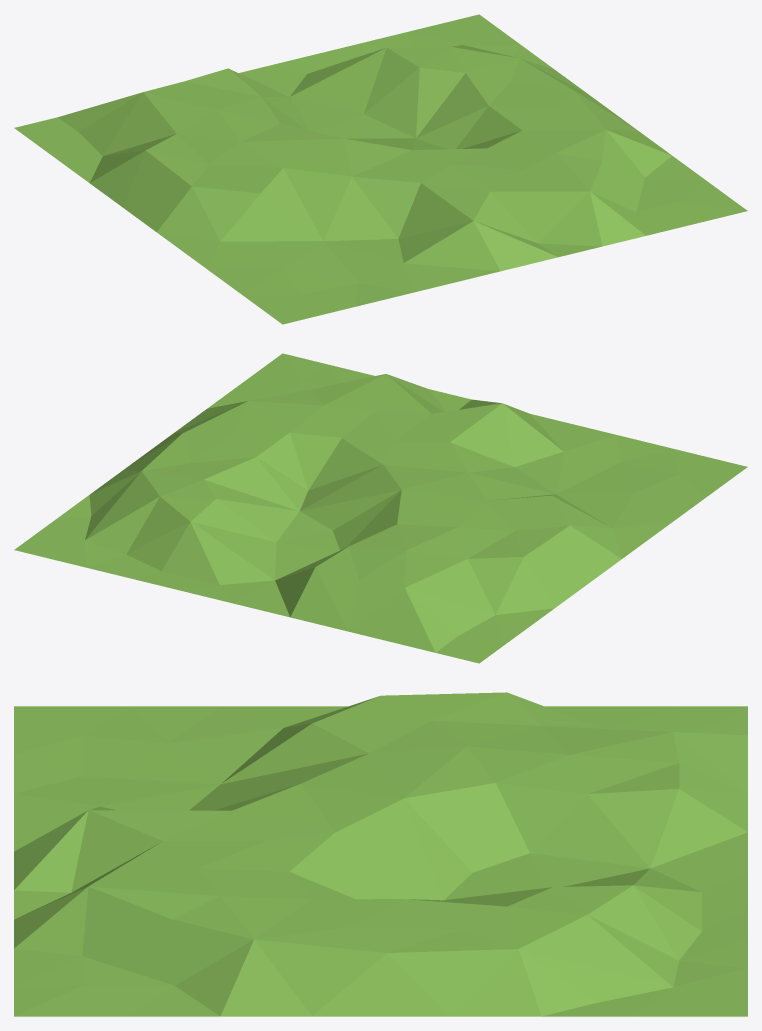
Rendered from MT_Terrain_S_c_29.fbx.
3 renders of one model, top to bottom at view 1: azimuth 30°, elevation 25°; view 2: azimuth 150°, elevation 25°; view 3: azimuth 270°, elevation 25°, orthographic. The views are drawn at different scales.
Parts seen in each view (by area): view 1: MT_Terrain_S_c_29; view 2: MT_Terrain_S_c_29; view 3: MT_Terrain_S_c_29.
Part boxes in pixels (bbox=[...]): MT_Terrain_S_c_29: bbox=[14, 14, 747, 324]; MT_Terrain_S_c_29: bbox=[14, 353, 747, 663]; MT_Terrain_S_c_29: bbox=[14, 692, 747, 1016].
Size of the model in its own units: 2500 by 172 by 2500.
